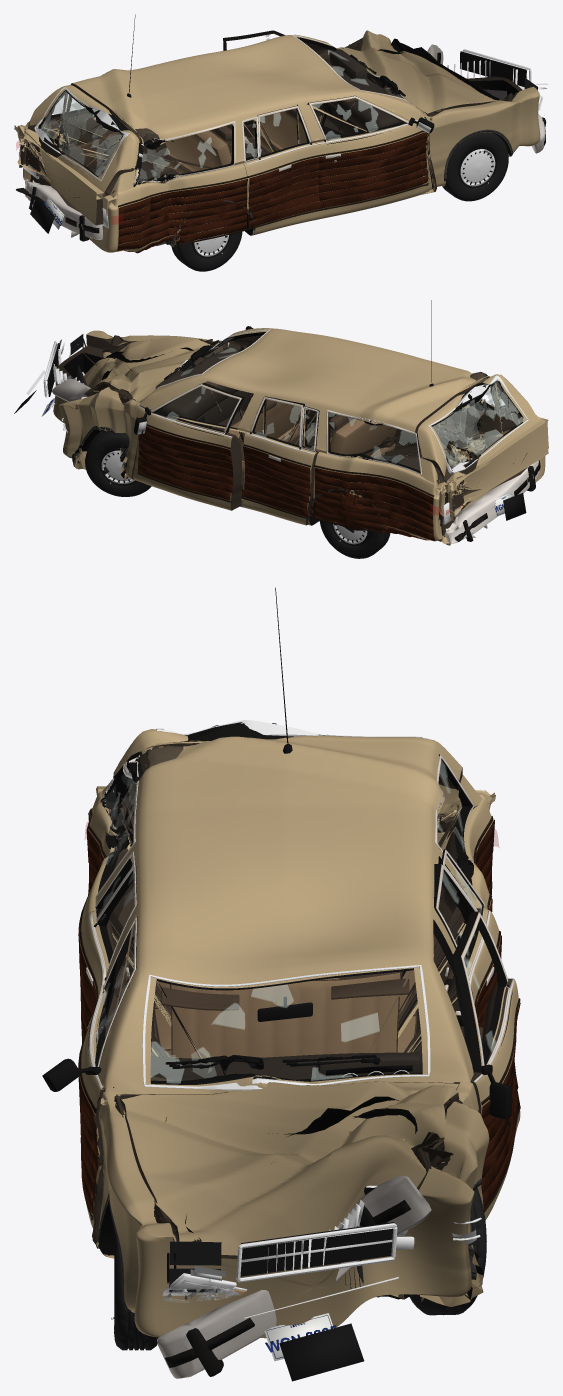
File: wagon82_front_corner_d2_lod1.glb
3 views of the same model, one above another, from view 1: azimuth 30°, elevation 25°; view 2: azimuth 150°, elevation 25°; view 3: azimuth 270°, elevation 25° (orthographic). The views are drawn at different scales.
Parts seen in each view (by area): view 1: Body, Trim, Interior, Tailgate, Trim_FR, Hood, Trim_RR, Glass_Tailgate, Wheel_FR_mesh, Door_FR, Ends, Door_RR (+6 smaller); view 2: Body, Trim, Tailgate, Interior, Trim_FL, Hood, Trim_RL, Glass_Tailgate, Door_FL, Wheel_FL_mesh, Bumper_R, Door_RL (+5 smaller); view 3: Body, Hood, Interior, Ends, Glass, Bumper_F, Trim, Door_FL, Trim_FL, Tailgate, Trim_FR, Door_FR (+7 smaller).
Boxes of the visible parts, left/top/right/bottom form: Body: left=14, top=34, right=540, bottom=252; Trim: left=57, top=14, right=512, bottom=253; Interior: left=69, top=49, right=401, bottom=189; Tailgate: left=17, top=85, right=139, bottom=225; Trim_FR: left=309, top=96, right=434, bottom=210; Hood: left=340, top=30, right=499, bottom=114; Trim_RR: left=241, top=106, right=322, bottom=228; Glass_Tailgate: left=34, top=87, right=129, bottom=181; Wheel_FR_mesh: left=442, top=132, right=508, bottom=201; Door_FR: left=308, top=95, right=435, bottom=218; Ends: left=18, top=49, right=548, bottom=233; Door_RR: left=242, top=105, right=321, bottom=234; Body: left=53, top=328, right=548, bottom=545; Trim: left=72, top=300, right=487, bottom=540; Tailgate: left=417, top=374, right=548, bottom=520; Interior: left=155, top=347, right=499, bottom=482; Trim_FL: left=134, top=384, right=241, bottom=502; Hood: left=84, top=337, right=219, bottom=401; Trim_RL: left=241, top=397, right=318, bottom=518; Glass_Tailgate: left=428, top=375, right=528, bottom=473; Door_FL: left=133, top=383, right=244, bottom=510; Wheel_FL_mesh: left=85, top=431, right=151, bottom=496; Bumper_R: left=445, top=460, right=540, bottom=545; Door_RL: left=242, top=396, right=318, bottom=525; Body: left=81, top=736, right=495, bottom=1338; Hood: left=118, top=1080, right=459, bottom=1255; Interior: left=150, top=970, right=422, bottom=1081; Ends: left=162, top=1185, right=481, bottom=1381; Glass: left=100, top=751, right=474, bottom=1090; Bumper_F: left=157, top=1175, right=431, bottom=1378; Trim: left=78, top=587, right=494, bottom=1311; Door_FL: left=452, top=911, right=520, bottom=1220; Trim_FL: left=461, top=913, right=520, bottom=1212; Tailgate: left=113, top=722, right=462, bottom=843; Trim_FR: left=42, top=918, right=136, bottom=1220; Door_FR: left=79, top=916, right=137, bottom=1248.
Size of the model in its own units: 4.98 by 2.23 by 2.08.
Materials: 35 (6 with a texture image).
